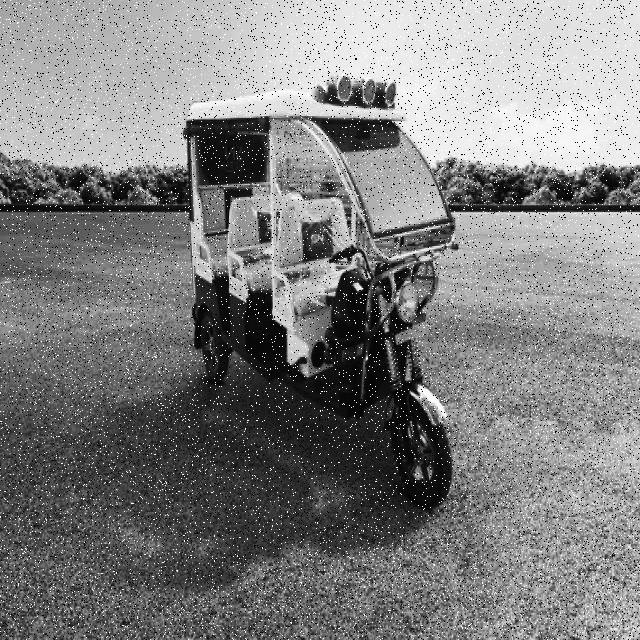Toto: (178, 85, 458, 507)
